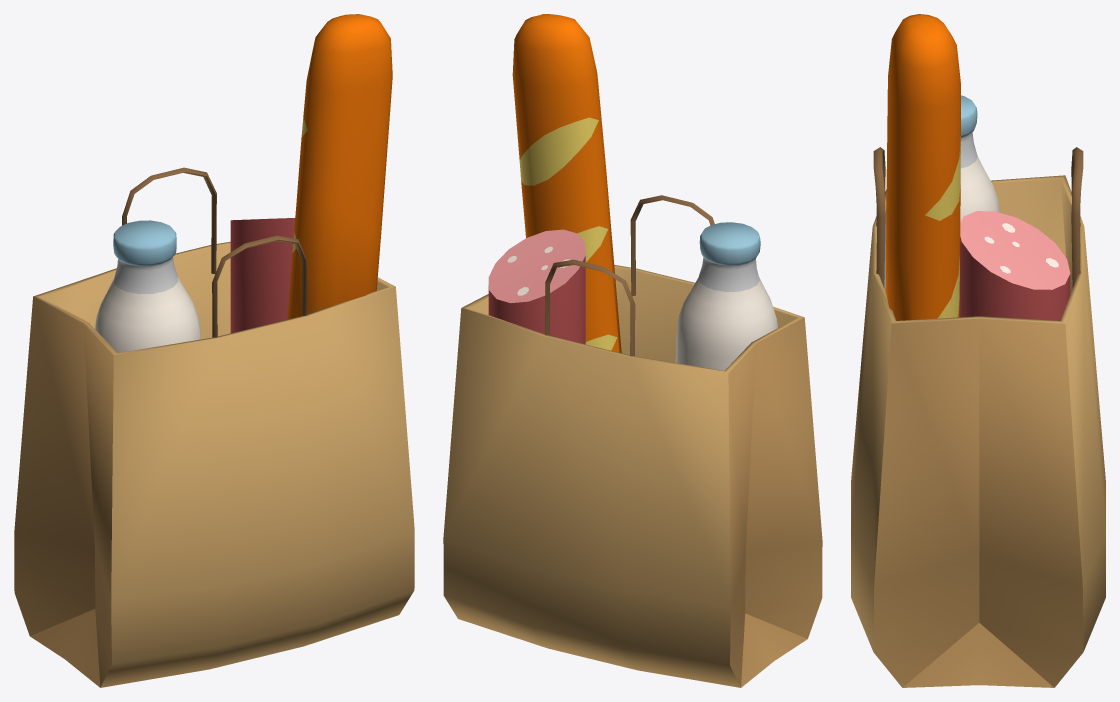
Rendered from Bag.fbx.
The picture shows the model from 3 angles, left to right: view 1: azimuth 30°, elevation 25°; view 2: azimuth 150°, elevation 25°; view 3: azimuth 270°, elevation 25°; orthographic projection. The views are drawn at different scales.
Visible parts, largest first — view 1: Bag; view 2: Bag; view 3: Bag.
Boxes of the visible parts, box(x1,y1,x2,y2) form: Bag: box(14, 14, 414, 687); Bag: box(443, 14, 822, 687); Bag: box(851, 14, 1105, 687).
Size of the model in its own units: 118 by 224 by 79.84.
